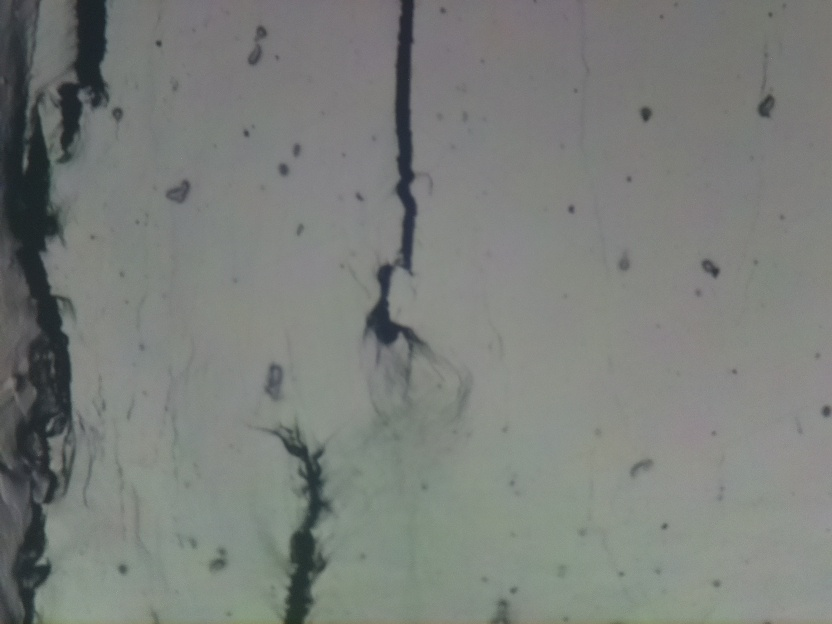crack: (0, 0, 67, 617), (352, 0, 423, 341), (262, 419, 344, 624), (49, 0, 119, 175)
